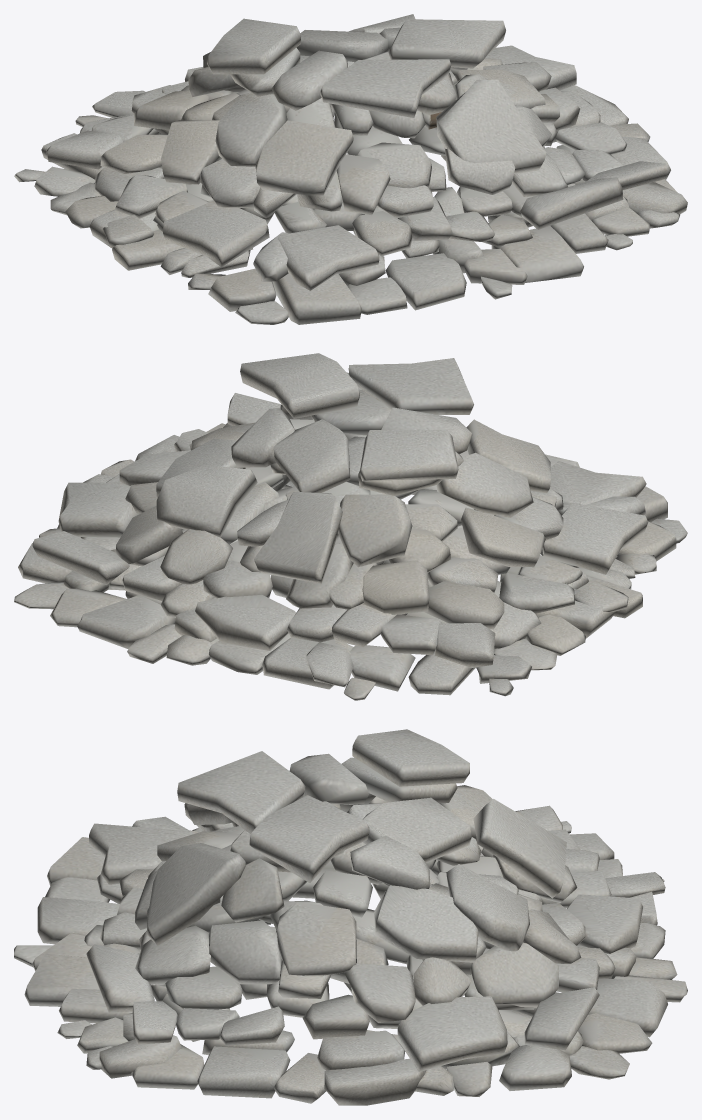
File: stone.glb
The picture shows the model from 3 angles, top to bottom: view 1: azimuth 30°, elevation 25°; view 2: azimuth 150°, elevation 25°; view 3: azimuth 270°, elevation 25°; orthographic projection. The views are drawn at different scales.
Size of the model in its own units: 1 by 0.2939 by 1.
Materials: 1 (1 with a texture image).
